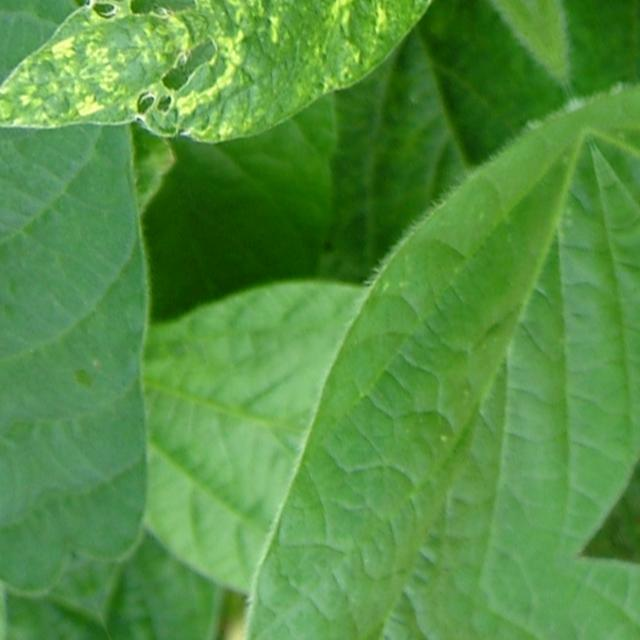Tomato leaf: (0, 0, 546, 280)
